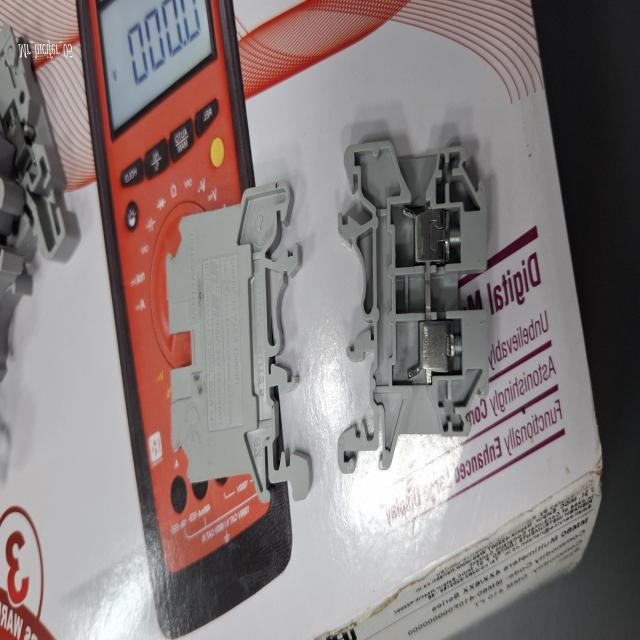Inverted: (155, 125, 315, 540)
Pass: (329, 111, 507, 518)
